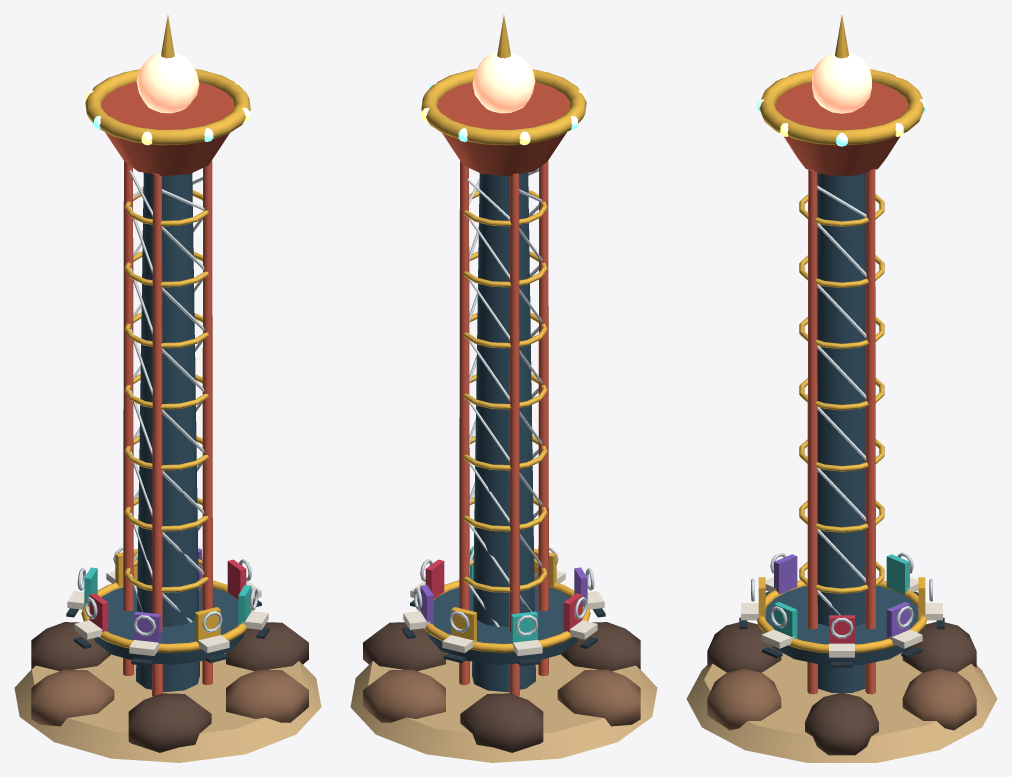
The model's file is drop-tower.glb.
3 views of the same model, side by side, from view 1: azimuth 30°, elevation 25°; view 2: azimuth 150°, elevation 25°; view 3: azimuth 270°, elevation 25° (orthographic).
Visible parts, largest first — view 1: Mesh_steel (×2), Mesh_coral, Mesh_sandStone, Mesh_cliffDark, Mesh_gold, Mesh_cliffRock, Mesh_terracotta, Mesh_chrome (×2), Mesh_glowCoral, Mesh_mango, Mesh_warmWhite, Mesh_crimson (+3 smaller); view 2: Mesh_steel (×2), Mesh_coral, Mesh_sandStone, Mesh_cliffDark, Mesh_gold, Mesh_cliffRock, Mesh_terracotta, Mesh_chrome (×2), Mesh_glowCoral, Mesh_mango, Mesh_warmWhite, Mesh_crimson (+3 smaller); view 3: Mesh_steel (×2), Mesh_sandStone, Mesh_coral, Mesh_gold, Mesh_cliffDark, Mesh_cliffRock, Mesh_terracotta, Mesh_glowCoral, Mesh_chrome (×2), Mesh_warmWhite, Mesh_mango, Mesh_turquoise (+3 smaller).
Boxes of the visible parts, box(x1,y1,x2,y2) form: Mesh_steel (×2): box(94, 172, 244, 692); Mesh_coral: box(123, 160, 212, 696); Mesh_sandStone: box(14, 653, 321, 762); Mesh_cliffDark: box(31, 622, 308, 752); Mesh_gold: box(85, 15, 250, 592); Mesh_cliffRock: box(31, 669, 308, 726); Mesh_terracotta: box(101, 82, 234, 176); Mesh_chrome (×2): box(77, 170, 258, 636); Mesh_glowCoral: box(136, 52, 199, 113); Mesh_mango: box(81, 548, 253, 652); Mesh_warmWhite: box(67, 567, 268, 655); Mesh_crimson: box(89, 559, 246, 632); Mesh_steel (×2): box(427, 172, 577, 692); Mesh_coral: box(459, 160, 548, 696); Mesh_sandStone: box(350, 653, 657, 762); Mesh_cliffDark: box(363, 622, 640, 752); Mesh_gold: box(421, 15, 586, 592); Mesh_cliffRock: box(363, 669, 640, 726); Mesh_terracotta: box(437, 82, 570, 176); Mesh_chrome (×2): box(413, 168, 594, 636); Mesh_glowCoral: box(472, 52, 535, 113); Mesh_mango: box(418, 548, 590, 652); Mesh_warmWhite: box(403, 567, 604, 655); Mesh_crimson: box(425, 559, 582, 632); Mesh_steel (×2): box(765, 172, 918, 692); Mesh_sandStone: box(686, 652, 997, 762); Mesh_coral: box(807, 168, 875, 694); Mesh_gold: box(759, 15, 924, 593); Mesh_cliffDark: box(707, 622, 976, 755); Mesh_cliffRock: box(707, 668, 976, 730); Mesh_terracotta: box(775, 82, 908, 175); Mesh_glowCoral: box(812, 52, 871, 113); Mesh_chrome (×2): box(751, 185, 932, 638); Mesh_warmWhite: box(741, 577, 942, 657); Mesh_mango: box(757, 577, 926, 653); Mesh_turquoise: box(774, 554, 909, 638).
Size of the model in its own units: 5.32 by 13.01 by 5.3.
